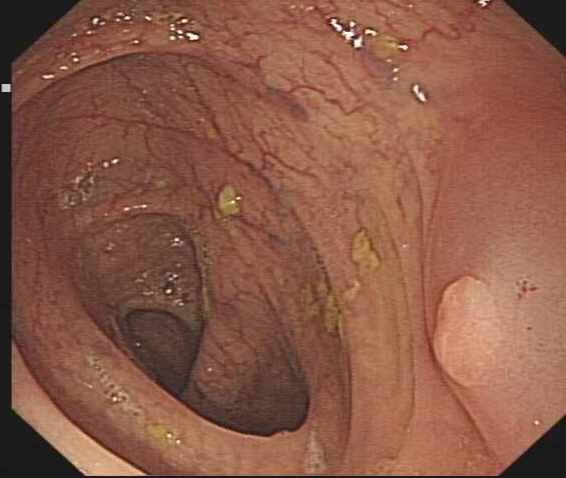others: (431, 273, 500, 391)
